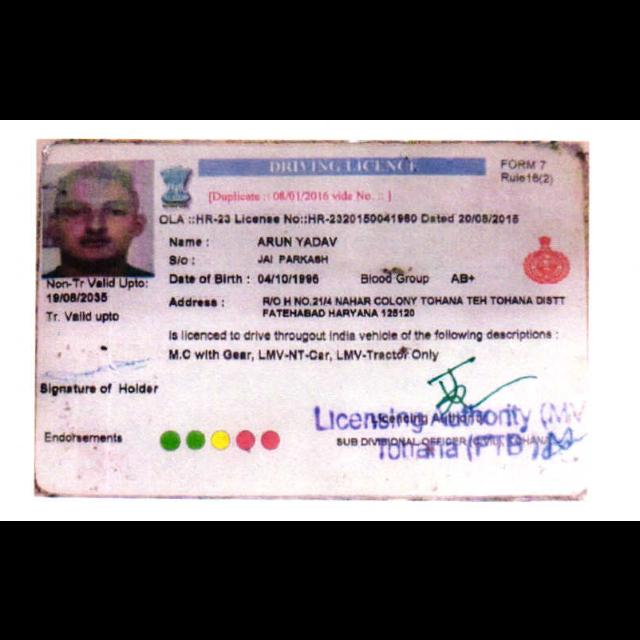driving_licence: (24, 132, 594, 506)
